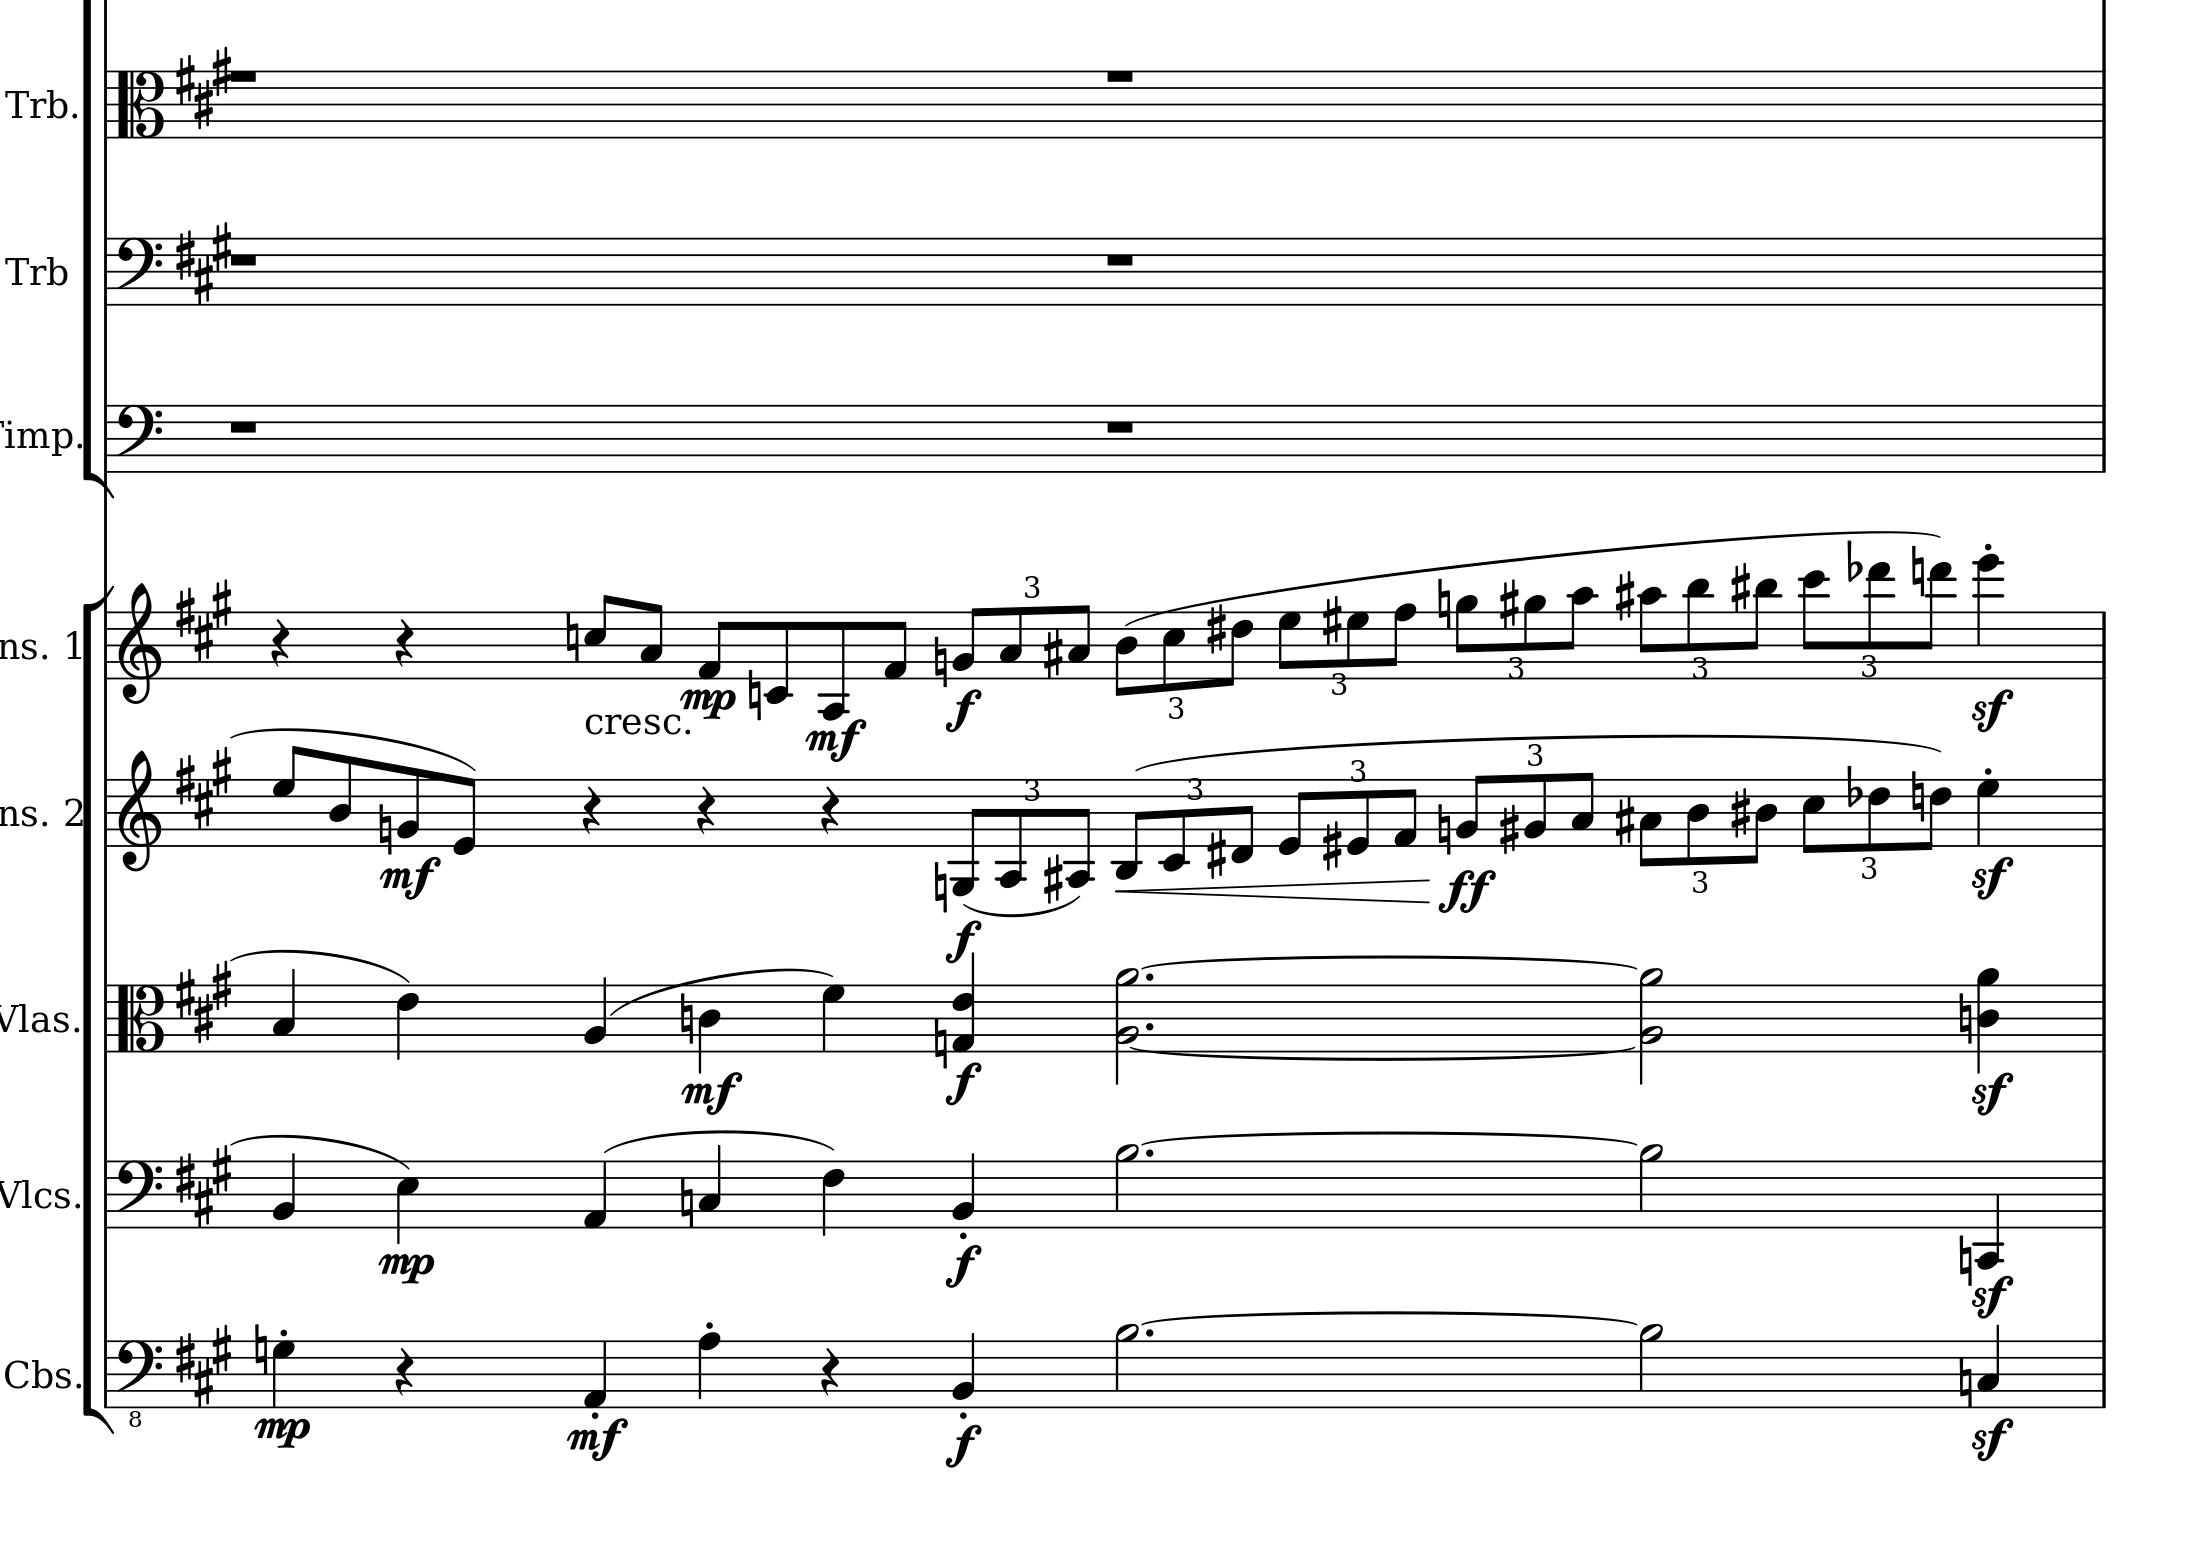2_2_9: (1638, 964, 1666, 1084), (1115, 966, 1142, 1088)
2_9: (1113, 1142, 1140, 1231), (1638, 1142, 1665, 1231), (1638, 1321, 1665, 1411), (1113, 1323, 1140, 1411)
3: (1688, 868, 1710, 895), (1524, 743, 1544, 768), (1859, 854, 1879, 880), (1348, 758, 1367, 783), (1186, 776, 1204, 802), (1022, 776, 1040, 802), (1330, 672, 1348, 695), (1023, 573, 1040, 599), (1861, 653, 1878, 678), (1167, 695, 1184, 721), (1507, 655, 1524, 678), (1692, 655, 1709, 678)
4_-4: (1976, 1159, 2003, 1269)
4_1: (582, 1159, 609, 1231), (582, 1338, 609, 1409)
4_14: (1972, 551, 2005, 678)
4_1_6: (951, 952, 978, 1054)
4_2: (584, 974, 611, 1056), (272, 1150, 298, 1230), (952, 1149, 978, 1228), (952, 1330, 978, 1409)
4_3: (271, 966, 298, 1054), (1978, 1321, 2003, 1407), (699, 1142, 722, 1230)
4_4: (697, 983, 722, 1074)
4_4_9: (1974, 964, 2001, 1076)
4_5: (394, 1159, 420, 1243)
4_6: (820, 1159, 848, 1237), (394, 981, 420, 1061)
4_7: (820, 983, 848, 1054), (271, 1338, 298, 1407), (1976, 776, 2001, 847)
4_8: (697, 1330, 722, 1411)
8_-1: (1230, 776, 1255, 864)
8_-2: (1159, 780, 1189, 873), (765, 609, 792, 704)
8_-3: (1111, 776, 1145, 881)
8_-4: (996, 776, 1027, 888), (819, 607, 849, 717), (1066, 776, 1095, 888)
8_-5: (947, 776, 985, 897)
8_0: (1277, 776, 1311, 858), (452, 775, 479, 856), (1347, 778, 1370, 856)
8_1: (695, 609, 731, 680), (1391, 776, 1419, 847), (883, 609, 908, 682)
8_10: (1561, 585, 1595, 682), (1638, 584, 1666, 682)
8_11: (1746, 577, 1780, 682), (1683, 575, 1712, 682)
8_12: (1800, 567, 1830, 682)
8_13: (1920, 560, 1956, 678), (1864, 560, 1895, 680)
8_2: (1455, 773, 1489, 847), (951, 606, 983, 678), (394, 765, 421, 847), (1522, 771, 1548, 847)
8_3: (1638, 778, 1663, 869), (638, 601, 665, 682), (996, 604, 1023, 682), (1067, 602, 1093, 680), (1570, 770, 1595, 847)
8_4: (1747, 776, 1778, 864), (326, 753, 354, 847), (1685, 776, 1710, 868), (1113, 609, 1138, 699)
8_5: (582, 590, 614, 682), (1160, 607, 1188, 694), (1802, 776, 1825, 854)
8_6: (1221, 609, 1255, 687), (1922, 776, 1952, 851), (1866, 776, 1891, 854)
8_7: (271, 743, 304, 847), (1343, 609, 1370, 680), (1277, 609, 1303, 680)
8_8: (1384, 601, 1418, 680)
8_9: (1453, 592, 1480, 682), (1522, 592, 1546, 682)
A_S: (171, 42, 235, 129), (173, 1321, 233, 1409), (173, 218, 233, 304), (174, 577, 233, 663), (174, 744, 233, 831), (173, 1143, 233, 1226)
Bracke: (76, 579, 115, 1438)
Cbs: (2, 1357, 76, 1392)
Cclef: (113, 983, 167, 1054), (113, 69, 166, 139)
Crescendo_hairpin: (1115, 880, 1429, 905)
E_S: (173, 957, 233, 1042)
Fclef: (117, 233, 166, 308), (117, 1159, 166, 1231), (115, 403, 164, 474)
Flat: (1844, 763, 1863, 809), (1846, 536, 1863, 584)
Gclef: (117, 580, 162, 705), (117, 748, 162, 873)
Lower_Fclef: (117, 1338, 166, 1429)
Natural: (677, 1176, 695, 1231), (1908, 768, 1927, 822), (1956, 1353, 1974, 1407), (376, 802, 394, 854), (932, 858, 949, 915), (932, 633, 949, 688), (1435, 575, 1451, 631), (746, 668, 763, 722), (1436, 802, 1453, 856), (1957, 1233, 1974, 1287), (563, 611, 580, 663), (932, 1017, 949, 1069), (678, 990, 694, 1045), (252, 1323, 267, 1377), (1957, 993, 1972, 1045), (1912, 541, 1925, 595)
Rests1: (1101, 414, 1138, 438), (1101, 64, 1138, 86), (1101, 249, 1138, 269), (225, 416, 261, 436), (232, 249, 262, 269), (233, 66, 262, 85)
Rests4: (267, 616, 291, 668), (819, 1346, 842, 1397), (580, 783, 602, 836), (695, 783, 717, 836), (819, 783, 841, 836), (392, 1345, 414, 1397), (392, 617, 414, 668)
Sharp: (1497, 802, 1521, 856), (1204, 602, 1228, 655), (1204, 827, 1228, 880), (1319, 594, 1343, 646), (1497, 577, 1521, 629), (1321, 819, 1343, 873), (1614, 568, 1636, 622), (1614, 793, 1636, 846), (1042, 628, 1064, 678), (1731, 562, 1751, 612), (1731, 785, 1749, 837), (1044, 853, 1062, 903)
Single_barline: (96, 984, 115, 1050), (2094, 69, 2111, 137), (2094, 237, 2111, 304), (100, 1340, 117, 1407), (98, 69, 115, 135), (2094, 404, 2111, 470), (2094, 611, 2111, 677), (2094, 780, 2111, 846), (2094, 984, 2111, 1050), (2094, 1160, 2111, 1226), (2094, 1340, 2111, 1406), (98, 404, 113, 472), (100, 239, 115, 304), (100, 612, 115, 678), (100, 780, 115, 846), (100, 1160, 115, 1226)
Slur: (1123, 529, 1942, 624), (1138, 734, 1945, 768), (223, 727, 479, 770), (1149, 1128, 1639, 1150), (607, 968, 826, 1017), (1145, 1308, 1639, 1328), (1140, 952, 1643, 971), (1128, 1045, 1631, 1064), (232, 1133, 404, 1177), (602, 1128, 834, 1159), (232, 949, 413, 988), (961, 897, 1081, 915)
Trb: (2, 78, 68, 123), (2, 247, 68, 289)
Vla: (2, 996, 51, 1039)
Vlc: (2, 1171, 56, 1216)
dot: (1144, 1018, 1157, 1034), (1144, 969, 1155, 984), (1144, 1145, 1155, 1160), (1144, 1326, 1155, 1340)
f: (942, 1423, 985, 1468), (942, 1243, 985, 1287), (944, 917, 983, 962), (944, 1061, 983, 1106), (946, 688, 981, 731)
ff: (1436, 866, 1497, 917)
mf: (377, 854, 442, 902), (563, 1418, 629, 1463), (680, 1071, 744, 1116), (805, 717, 868, 763)
mp: (252, 1412, 311, 1451), (376, 1248, 436, 1286), (678, 683, 738, 721)
sf: (1969, 688, 2015, 732), (1971, 1272, 2015, 1318), (1971, 1071, 2013, 1115), (1971, 1416, 2013, 1460), (1971, 854, 2011, 900)
